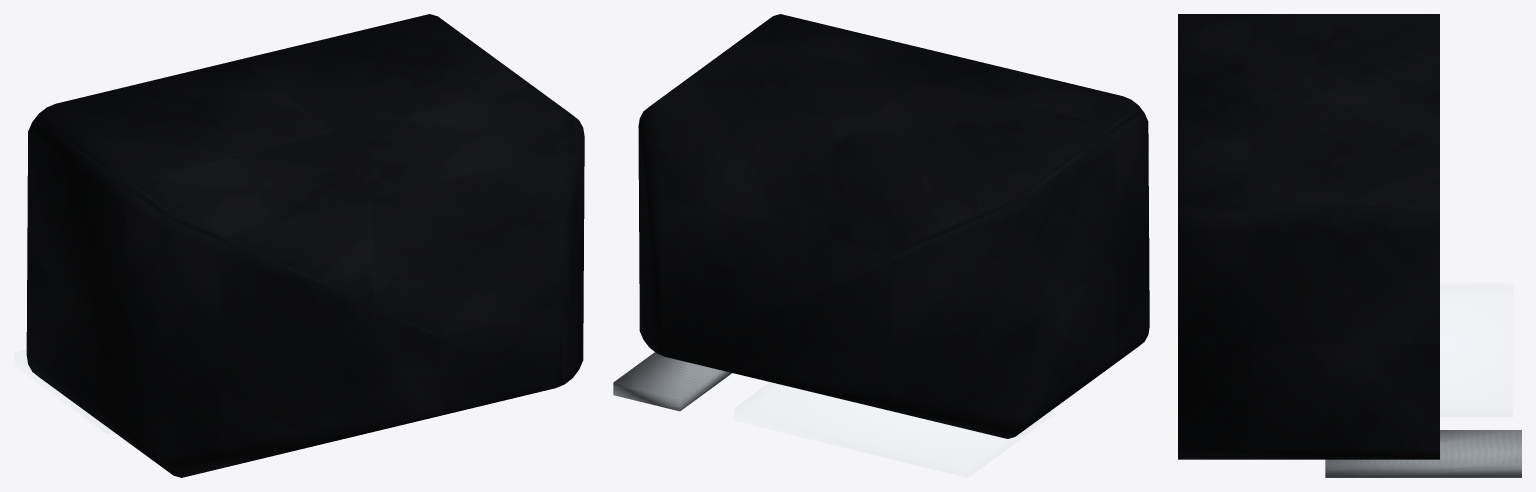
File: MICROWAVE_001.glb
3 views of the same model, side by side, from view 1: azimuth 30°, elevation 25°; view 2: azimuth 150°, elevation 25°; view 3: azimuth 270°, elevation 25° (orthographic). The views are drawn at different scales.
Visible parts, largest first — view 1: body_000; view 2: body_000, control_panel_002; view 3: body_000, control_panel_002.
Part boxes in pixels (x1,y1,x2,y2): body_000: [26, 14, 584, 477]; body_000: [638, 14, 1149, 438]; control_panel_002: [613, 352, 731, 411]; body_000: [1178, 14, 1439, 459]; control_panel_002: [1325, 430, 1521, 477].
Bounding box in the file's own units: 0.58 × 0.379 × 0.42.
3 materials, 3 textured.
